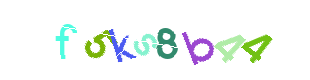4: (158, 0, 238, 80), (175, 0, 255, 80)
5: (80, 0, 160, 80)
8: (126, 0, 206, 80)
B: (144, 0, 224, 80)
F: (24, 0, 104, 80)
K: (98, 0, 178, 80)
S: (113, 0, 193, 80)
